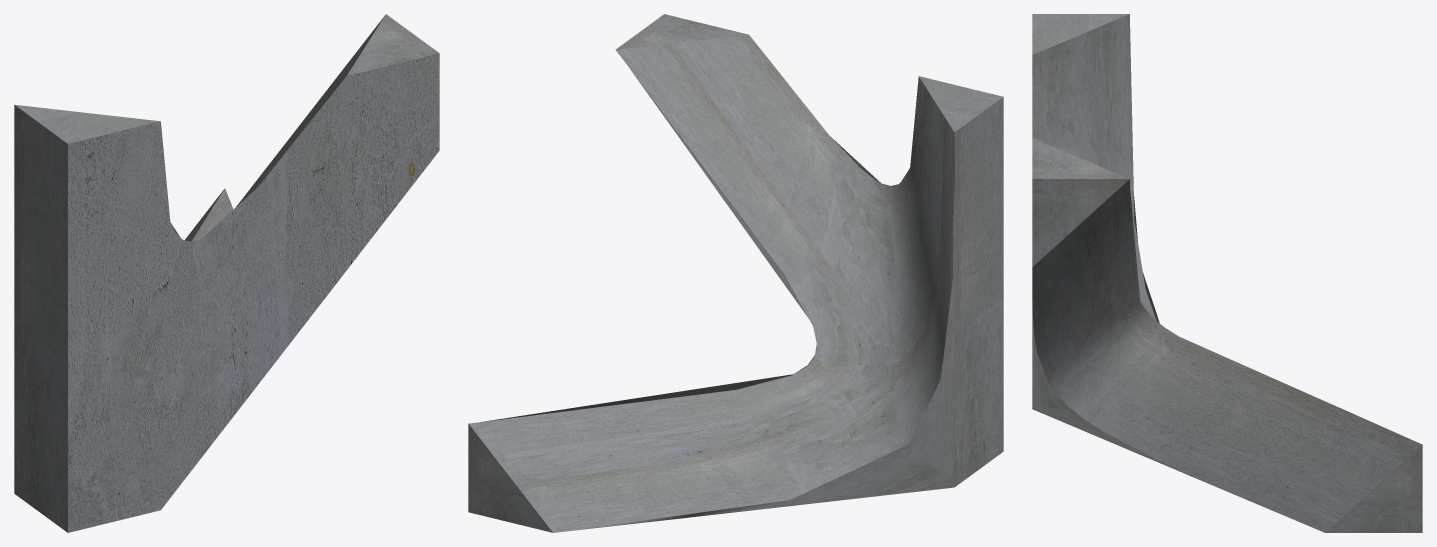
The model's file is module_M4.fbx.
The picture shows the model from 3 angles, left to right: view 1: azimuth 30°, elevation 25°; view 2: azimuth 150°, elevation 25°; view 3: azimuth 270°, elevation 25°; orthographic projection. The views are drawn at different scales.
Visible parts, largest first — view 1: modules; view 2: modules; view 3: modules.
Boxes of the visible parts, box(x1,y1,x2,y2) form: modules: box(14, 14, 439, 532); modules: box(468, 14, 1003, 532); modules: box(1032, 14, 1422, 532).
Bounding box in the file's own units: 1000 × 1000 × 1000.
1 material, 1 textured.
